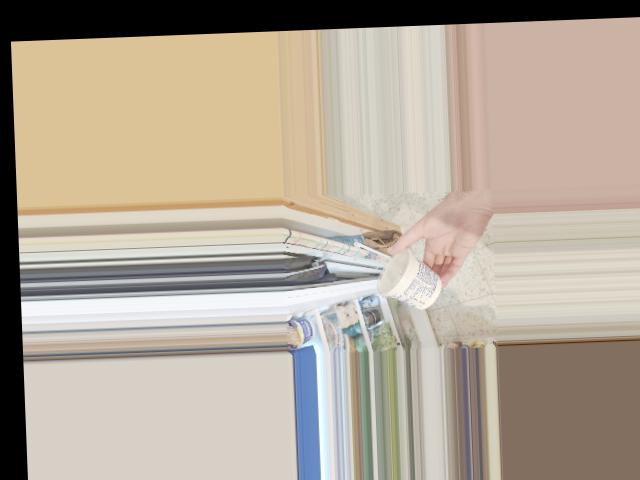cotage: (373, 248, 432, 309)
